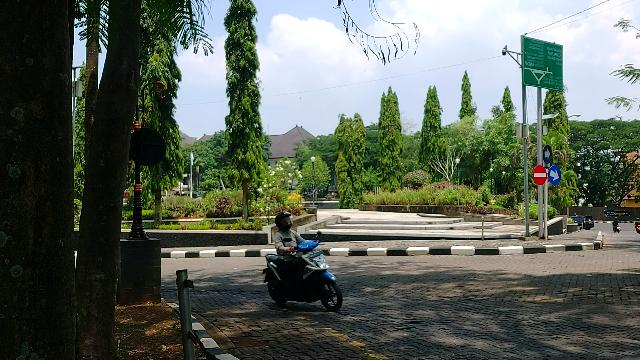helm: (276, 213, 294, 231)
motor: (265, 241, 344, 312)
